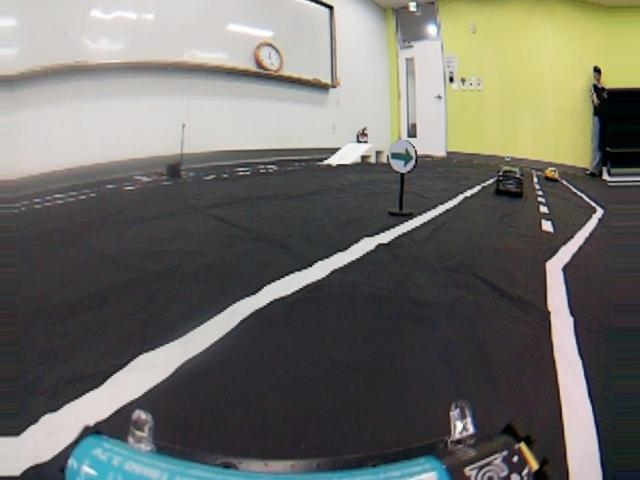car: (495, 164, 527, 200), (545, 168, 560, 180)
sign_right: (5, 231, 631, 477), (387, 138, 420, 176)
